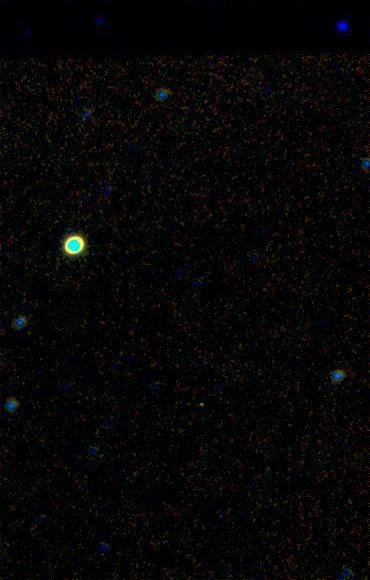star: (184, 389, 214, 419)
